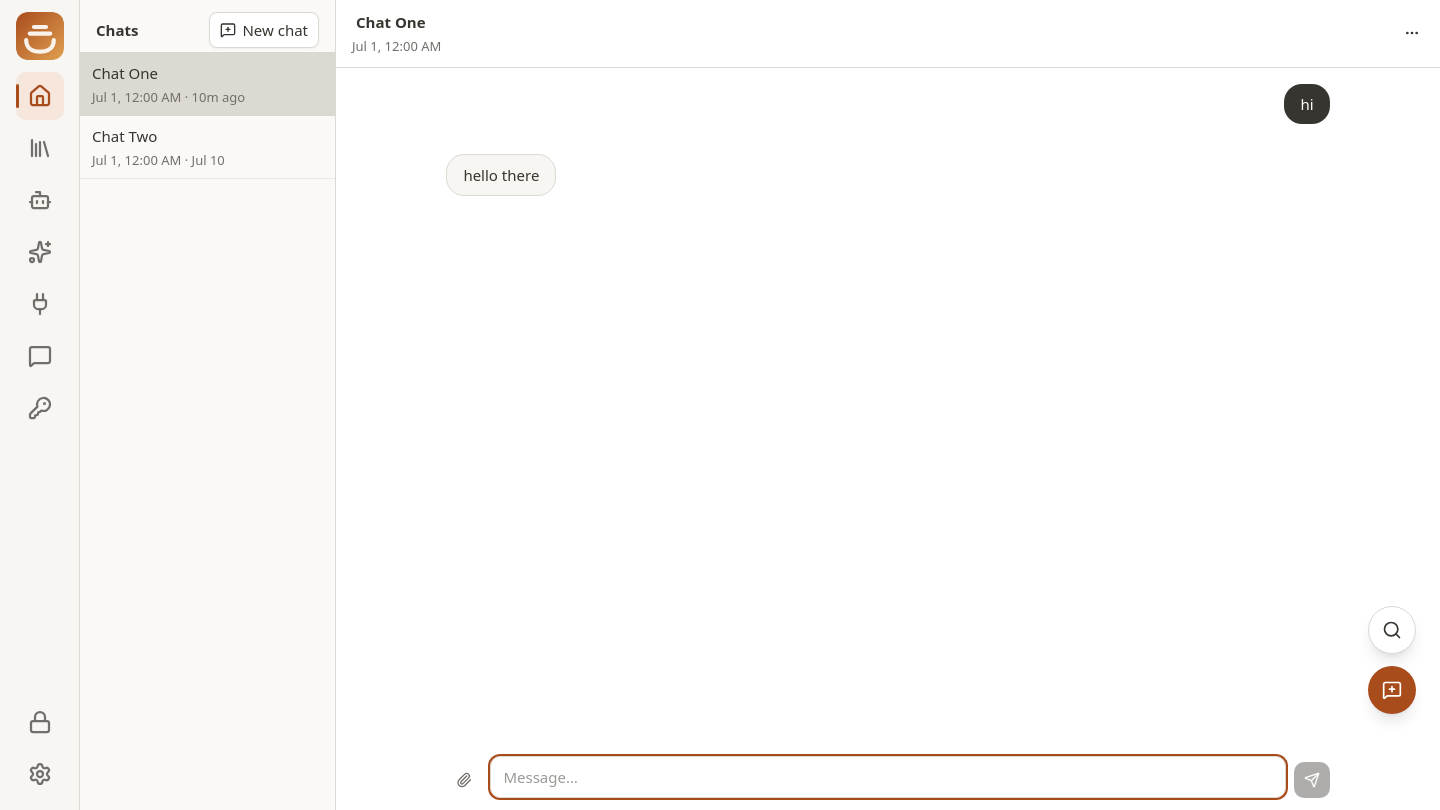
Test case: Delete confirms, DELETEs the chat, and clears the selection
Check: the text "hi" is shown, box [1300, 92, 1314, 116]
Click the button named "Chat actions": (1412, 33) [1400, 21, 1424, 45]
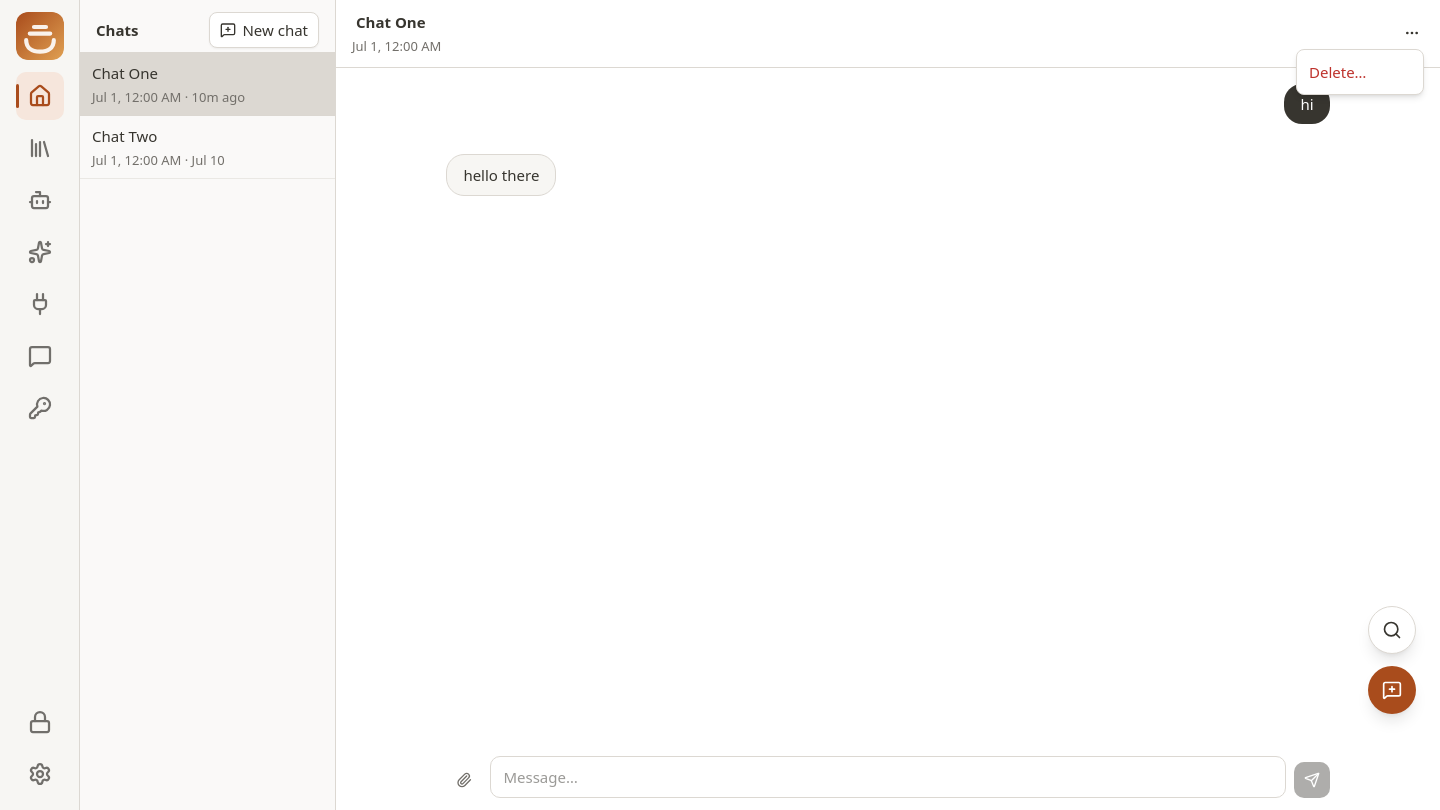
Click the menu item "Delete…": (1338, 72) [1309, 62, 1366, 82]
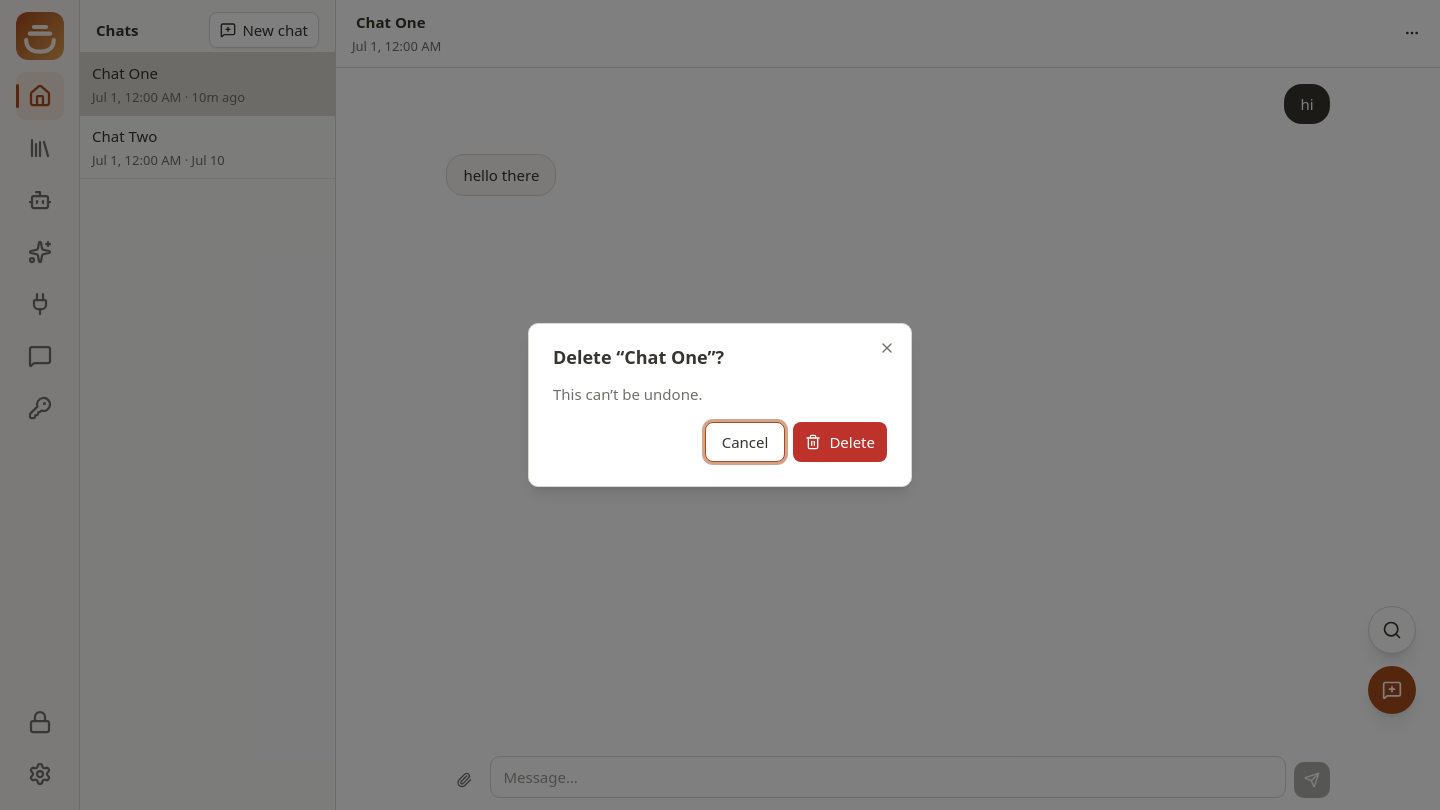
Check: the heading "Delete “Chat One”?" is shown, box [553, 345, 724, 369]
Click the button "Delete": (840, 442) [793, 422, 887, 462]
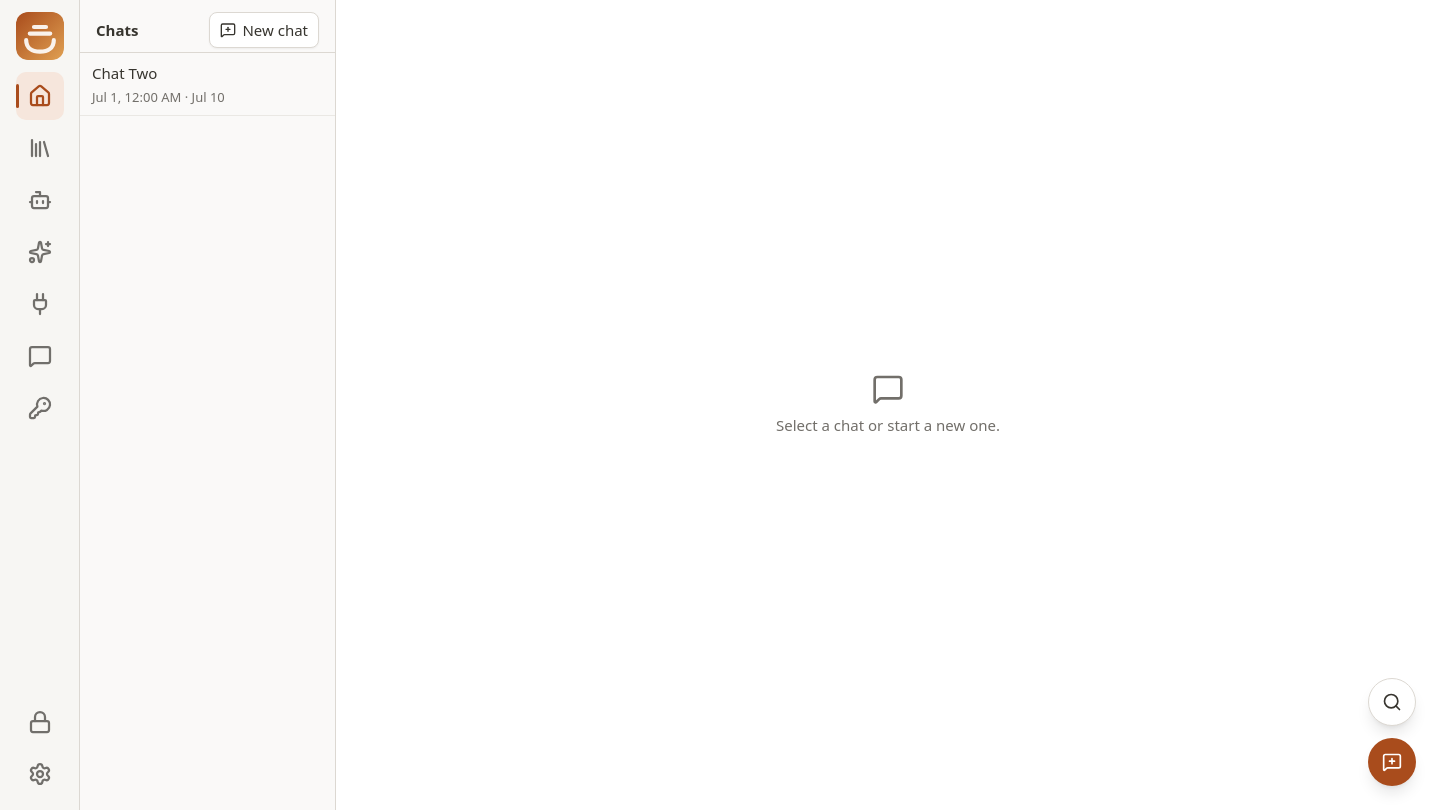
Check: the text "Select a chat or start a new one." is shown, box [776, 413, 1000, 437]
Check: the button "Chat One" is gone
